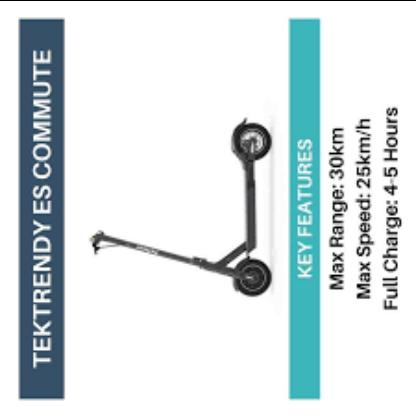bike: (89, 118, 273, 296)
